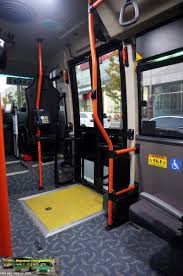exit: (67, 44, 131, 200)
